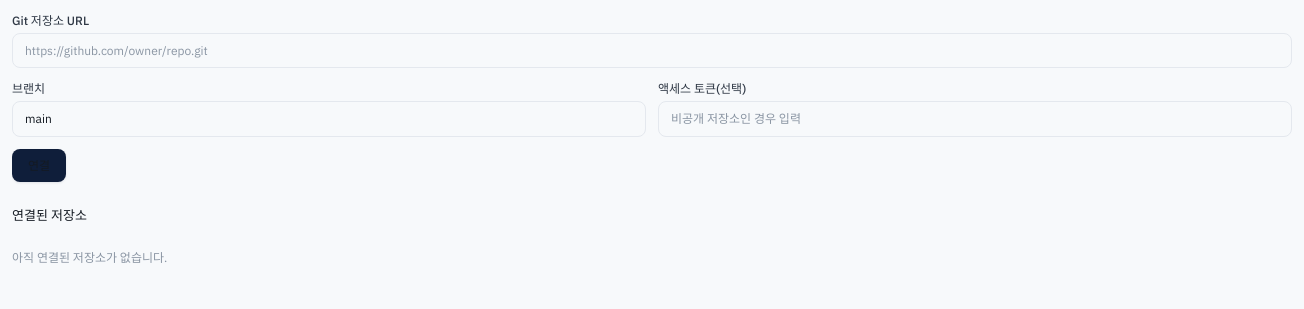
Test: KnowledgeSourcesClient › rejects non-https URLs client-side
expect the text "아직 연결된 저장소가 없습니다." is shown: met, box 12,250 -> 167,265
Type "git@github.com:acme/regulations.git" into the field with test id "ks-git-url" at [652, 51], box 12,33 -> 1292,68
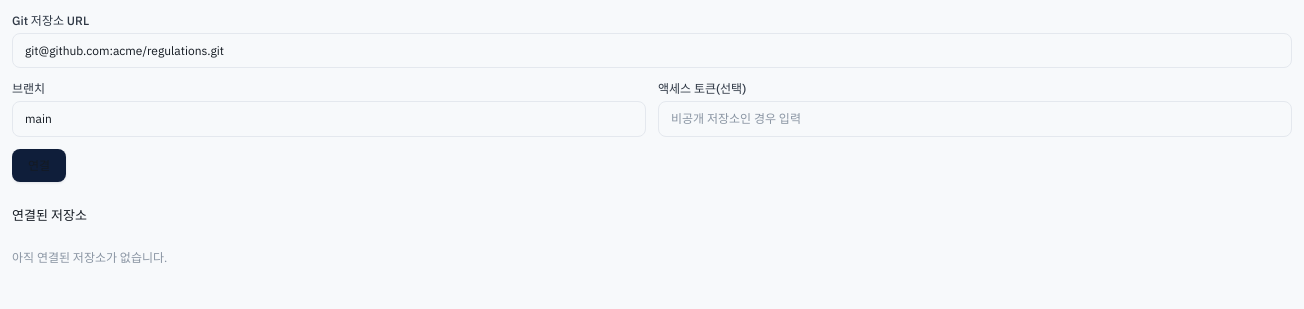
Click the button with test id "ks-submit" at [39, 165], box 12,149 -> 66,182
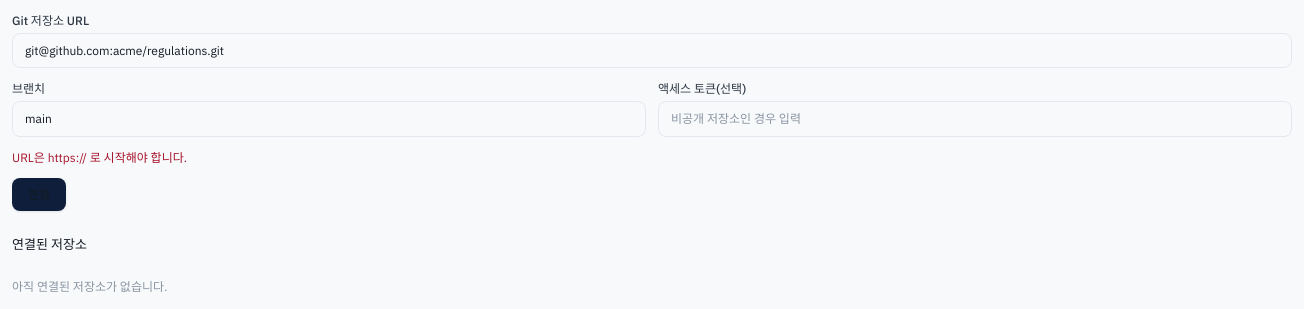
expect the message with test id "ks-form-error" shows "https://": met, box 12,150 -> 187,165
